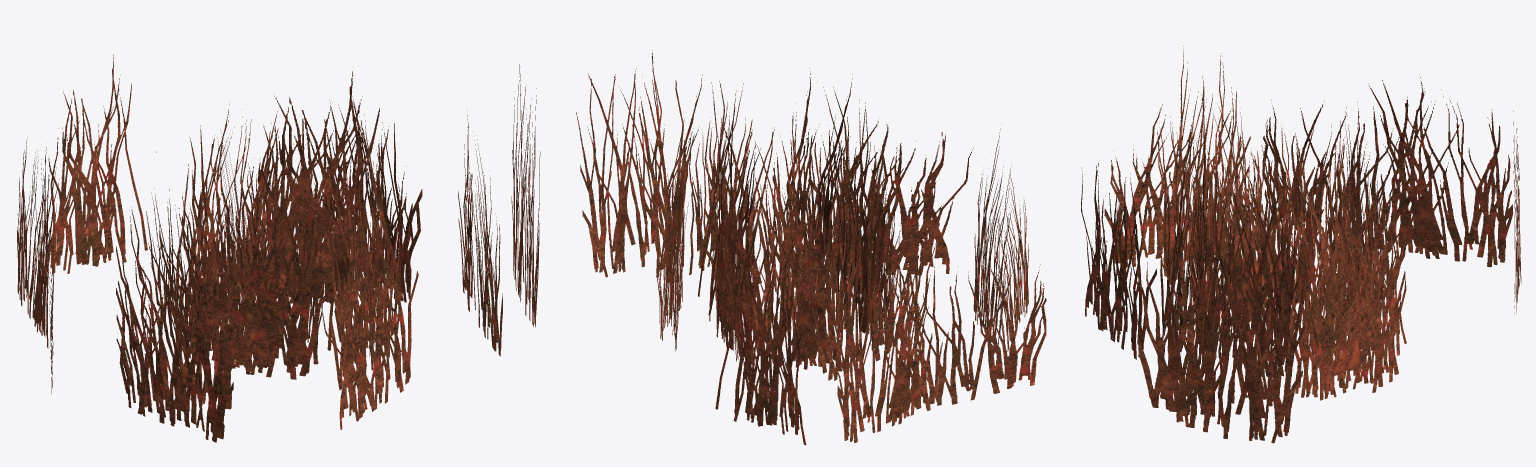
The model's file is grass_3d_05_red.glb.
3 views of the same model, side by side, from view 1: azimuth 30°, elevation 25°; view 2: azimuth 150°, elevation 25°; view 3: azimuth 270°, elevation 25° (orthographic). The views are drawn at different scales.
Visible parts, largest first — view 1: grass_cards; view 2: grass_cards; view 3: grass_cards.
Part boxes in pixels (x1=…): grass_cards: x1=17, y1=54, x2=540, y2=442; grass_cards: x1=576, y1=50, x2=1046, y2=445; grass_cards: x1=1081, y1=46, x2=1521, y2=443.
Bounding box in the file's own units: 1.16 × 0.608 × 0.947.
Materials: 1 (1 with a texture image).
